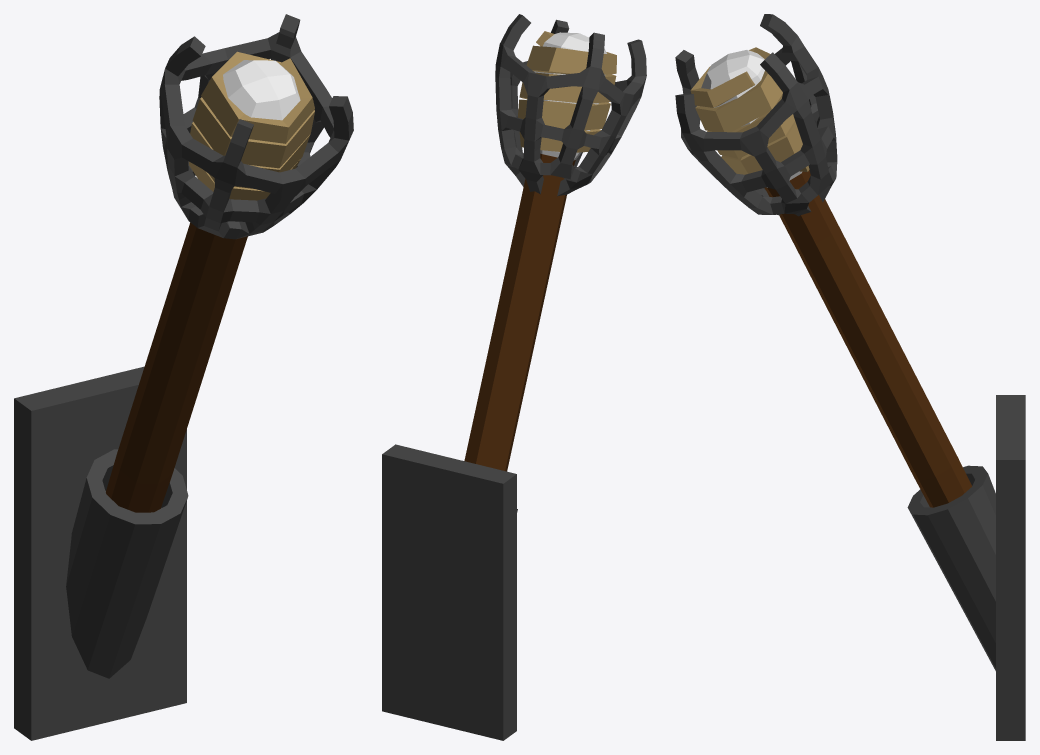
File: obj_Torch.fbx
3 renders of one model, left to right at view 1: azimuth 30°, elevation 25°; view 2: azimuth 150°, elevation 25°; view 3: azimuth 270°, elevation 25°, orthographic. The views are drawn at different scales.
Parts seen in each view (by area): view 1: geo_Torch; view 2: geo_Torch; view 3: geo_Torch.
Boxes of the visible parts, x1,y1,x2,y2 form: geo_Torch: (14, 14, 353, 740); geo_Torch: (382, 14, 646, 740); geo_Torch: (675, 14, 1025, 740).
Size of the model in its own units: 6.17 by 14.1 by 30.
